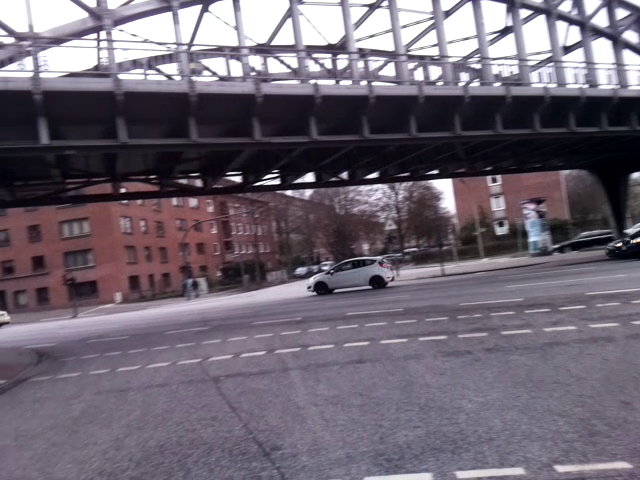car: (309, 254, 396, 295)
